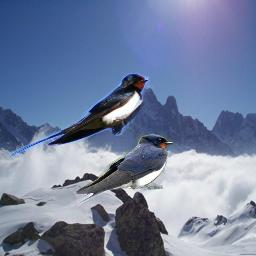Swallow: (8, 73, 150, 157), (63, 134, 174, 211)
